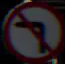Don't turn left: (10, 5, 55, 53)
